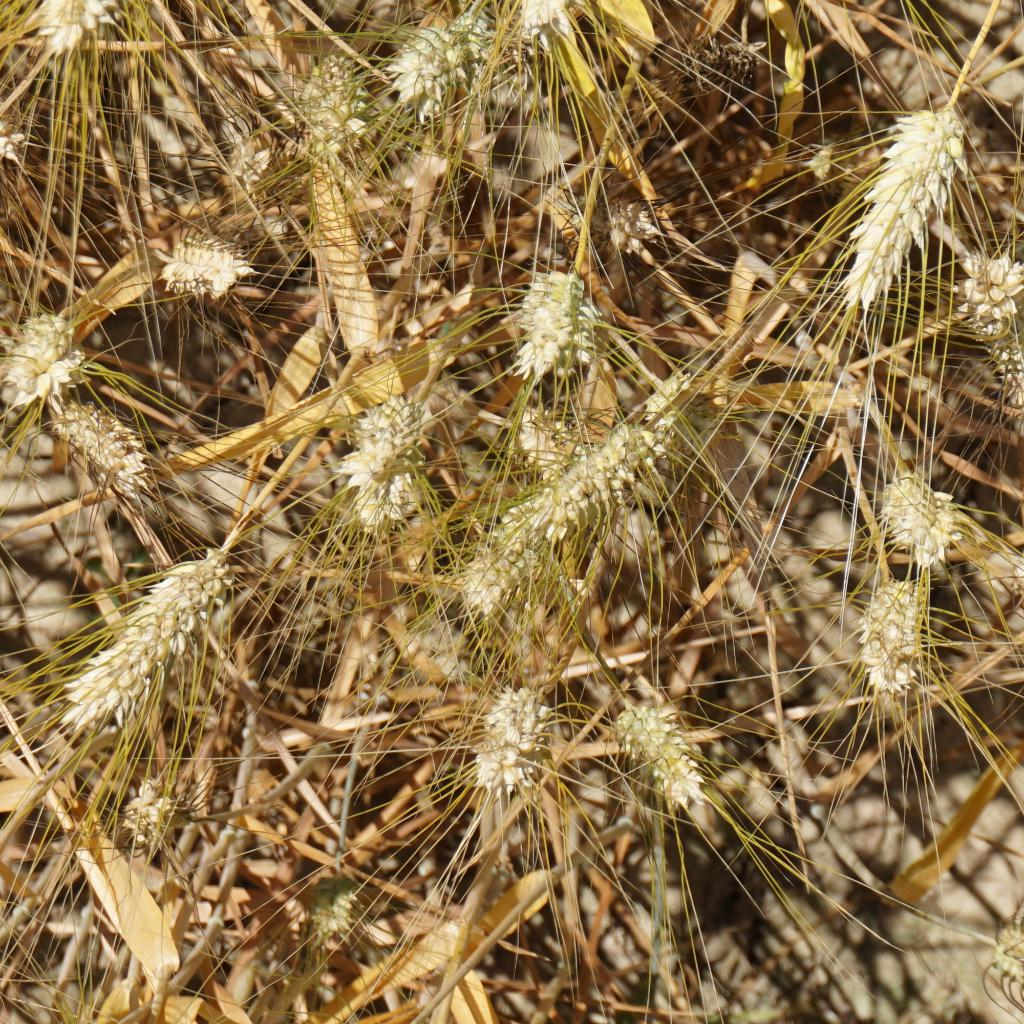0-0: (27, 531, 242, 712), (854, 90, 958, 303), (41, 374, 151, 490), (539, 415, 649, 529), (106, 746, 218, 856), (505, 240, 596, 370), (866, 451, 974, 559), (622, 685, 707, 817), (350, 377, 423, 523), (451, 484, 535, 604), (844, 569, 925, 691), (291, 33, 362, 157), (468, 671, 545, 783), (153, 220, 258, 301), (0, 295, 72, 409), (388, 11, 466, 112), (941, 238, 1024, 326), (303, 844, 364, 945), (590, 195, 679, 262), (984, 909, 1024, 1012), (994, 525, 1024, 633), (504, 0, 582, 37), (31, 0, 108, 35), (521, 403, 570, 453)
